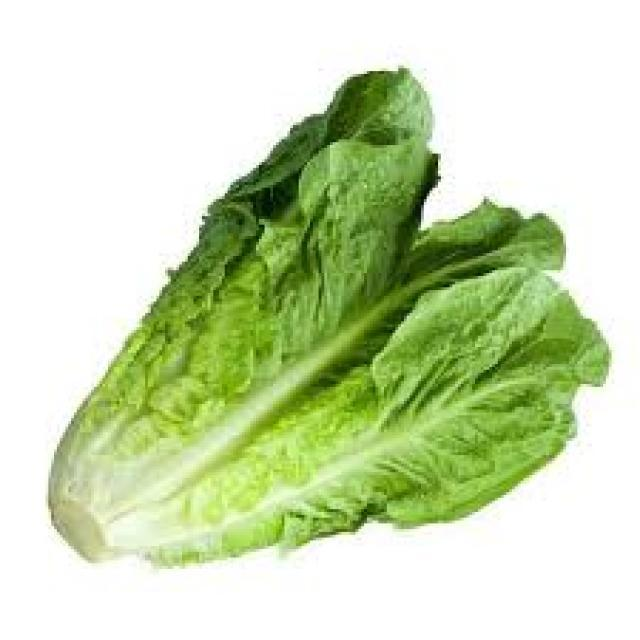Lettuce: (50, 67, 610, 565)
